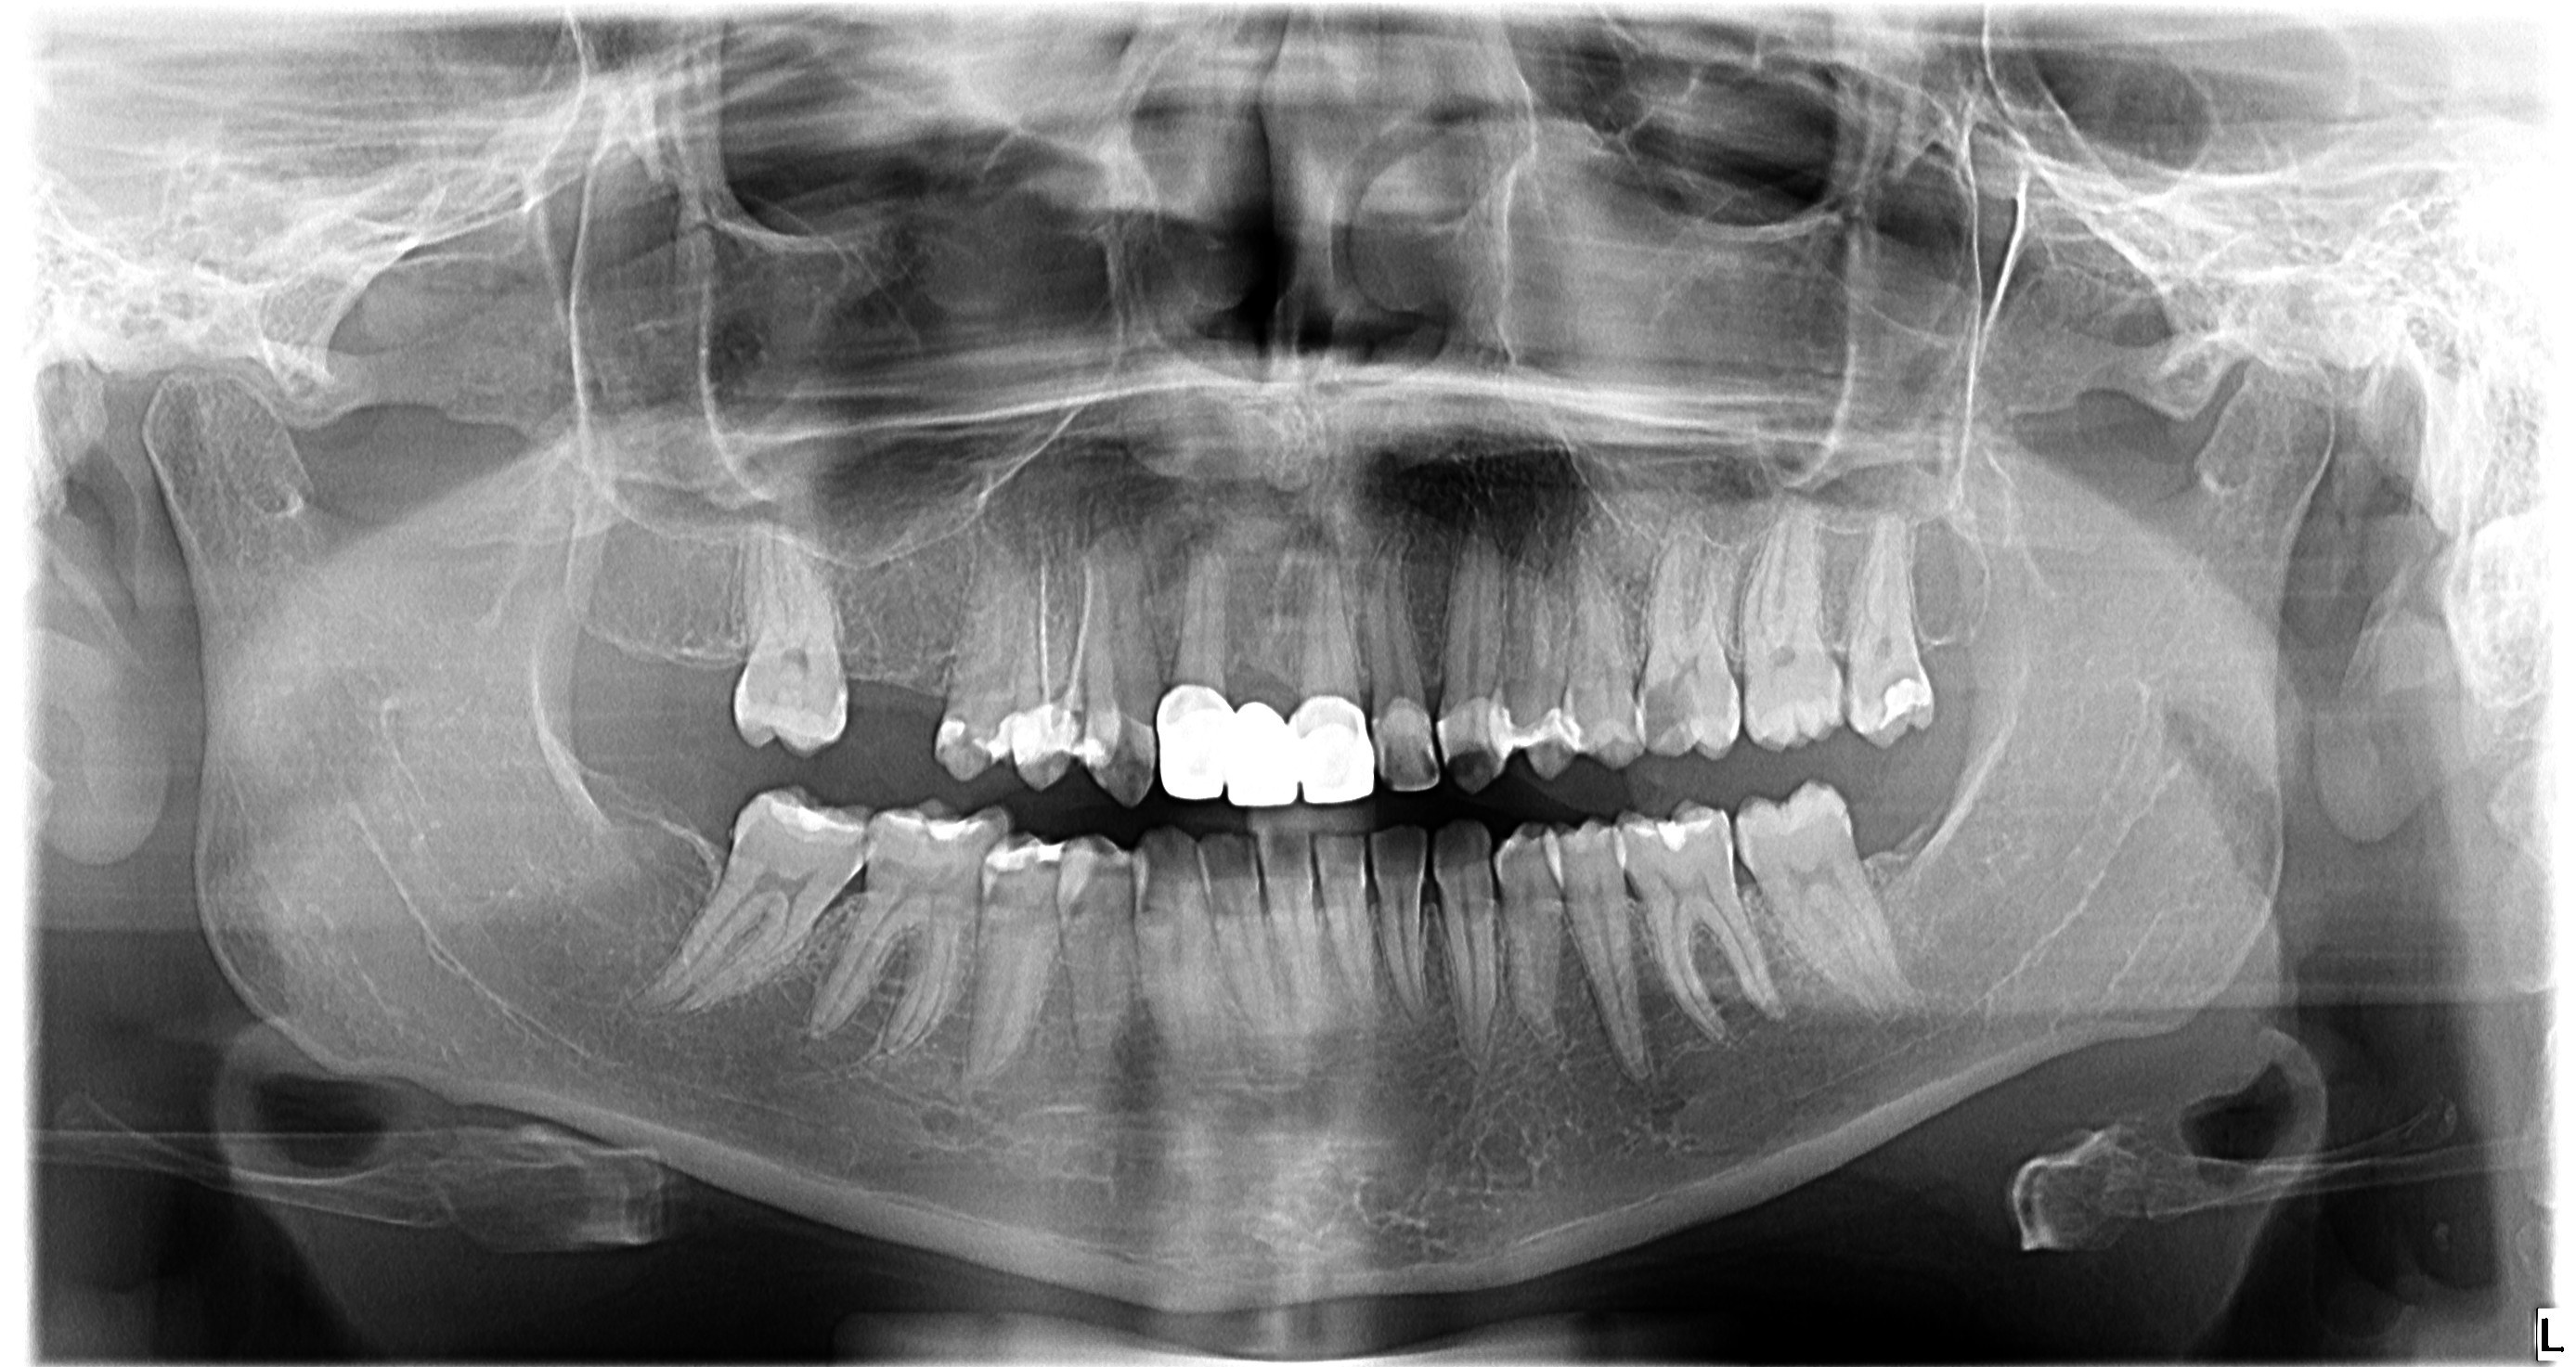CAR: (1641, 667, 1700, 756), (1835, 661, 1859, 730), (911, 829, 954, 865), (1874, 657, 1917, 693), (847, 827, 879, 872), (957, 708, 981, 752)
END: (1024, 536, 1095, 703)
OBT: (1150, 672, 1373, 821)
PRR: (1370, 701, 1431, 810), (1085, 703, 1148, 807), (1012, 705, 1078, 792), (1869, 664, 1935, 741), (1651, 805, 1724, 855), (985, 832, 1060, 878), (922, 795, 971, 844), (782, 788, 833, 834), (983, 706, 1019, 766), (930, 713, 971, 761)
